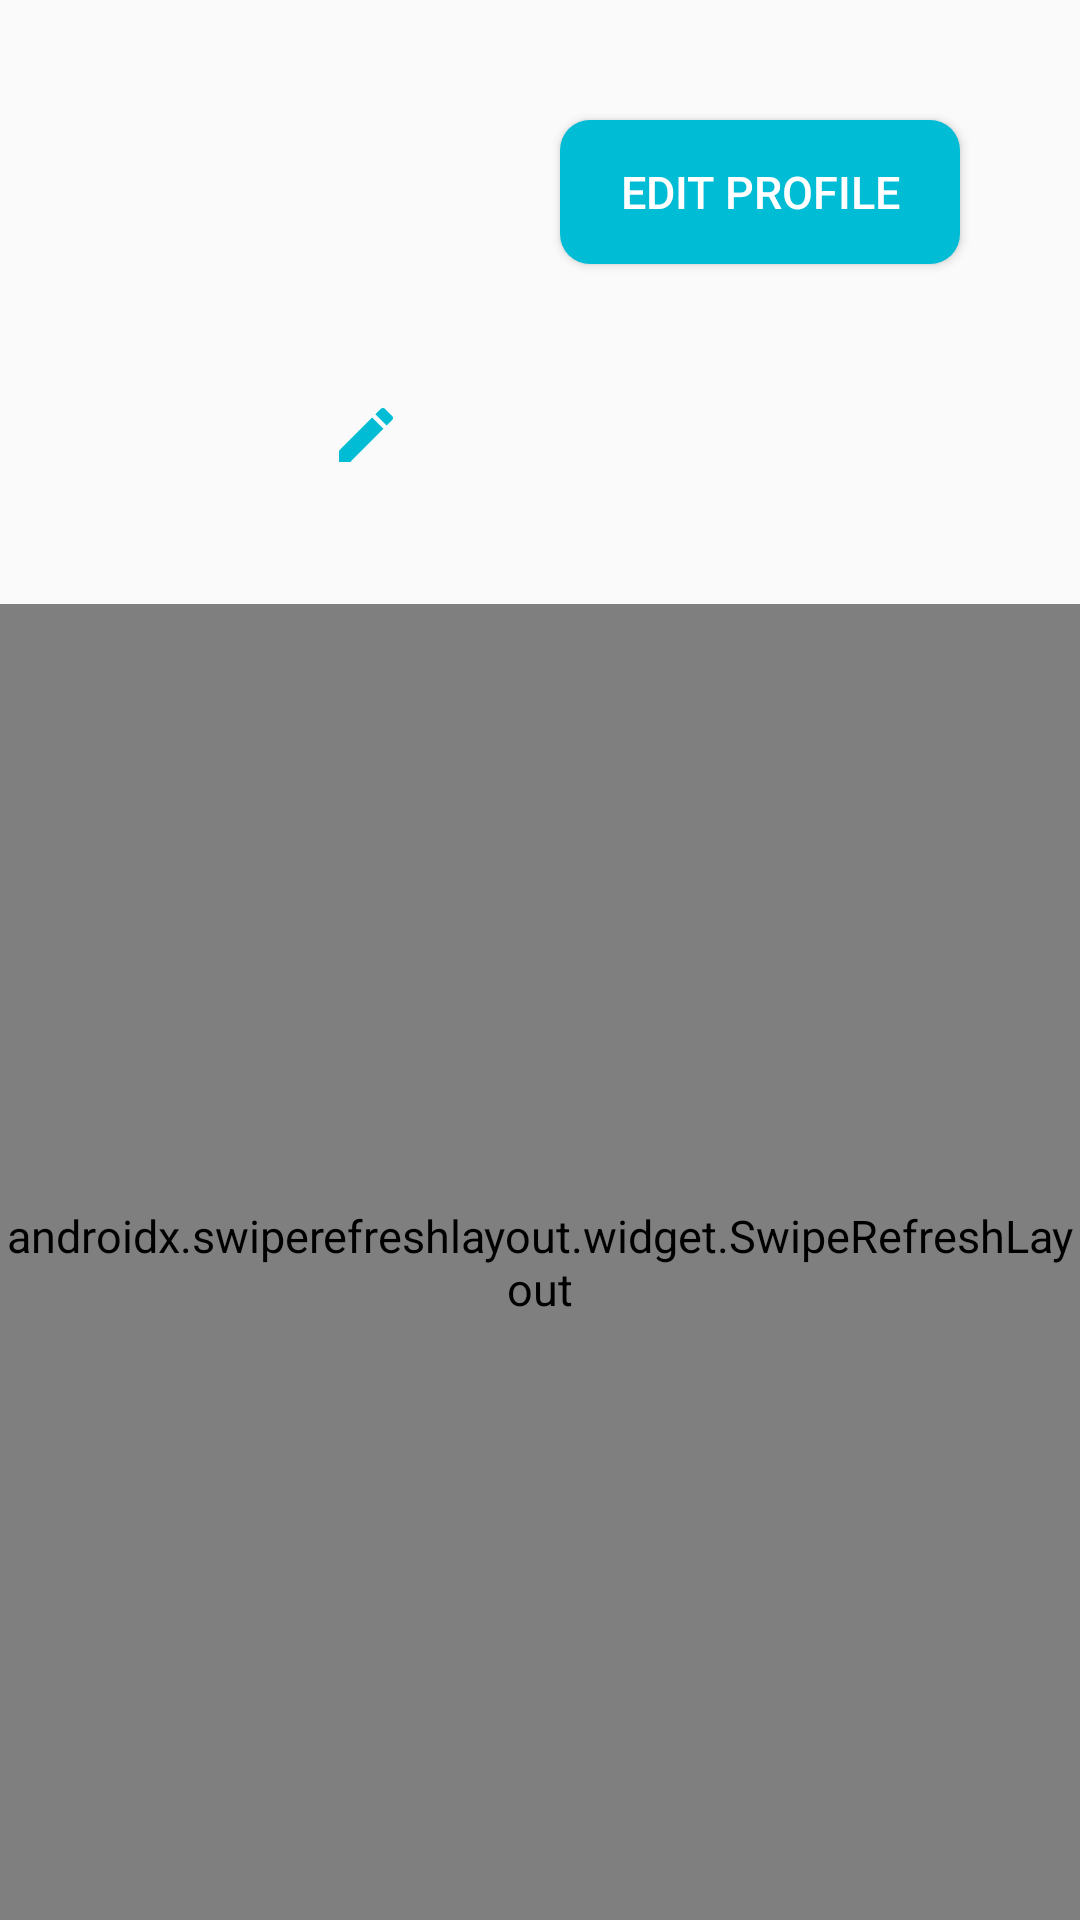

Icon click points for this 1080w x 1920h phone screenshot, format (x,y):
edit: (366,435)
